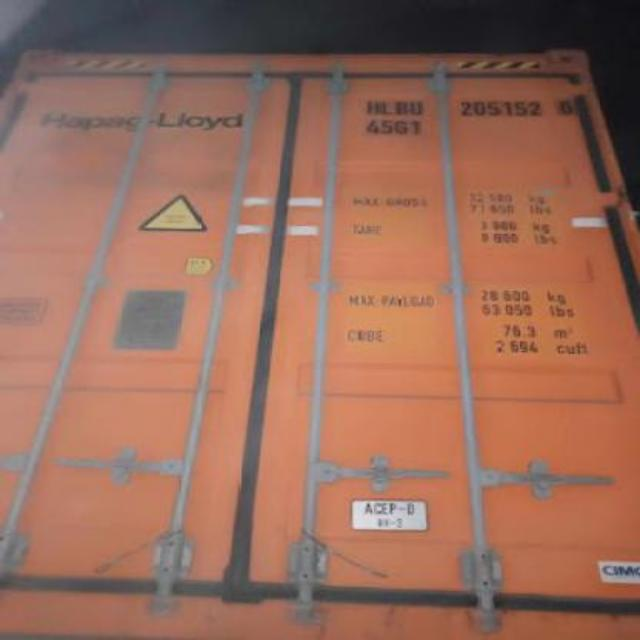0: (472, 95, 486, 119)
1: (501, 95, 514, 119)
2: (526, 92, 544, 121), (460, 94, 472, 122)
5: (514, 95, 528, 122), (486, 92, 499, 121)
6: (558, 92, 574, 120)
B: (394, 95, 408, 115)
H: (362, 95, 380, 116)
L: (381, 94, 394, 118)
U: (408, 95, 424, 115)
